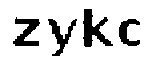c: (116, 18, 147, 48)
k: (79, 7, 114, 51)
y: (45, 14, 79, 60)
z: (11, 16, 43, 48)
